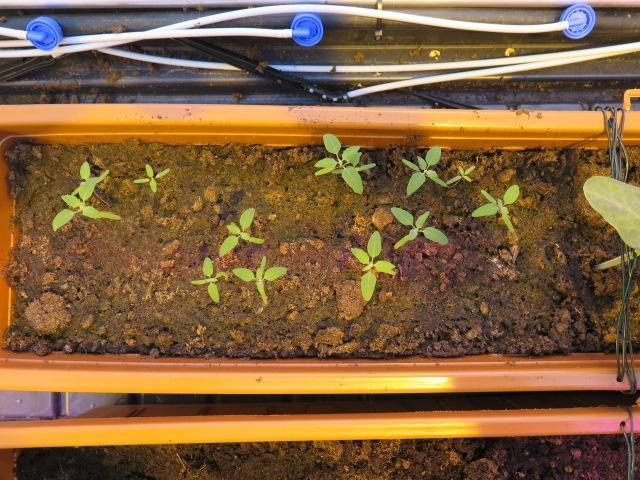weed: (229, 250, 289, 306), (388, 204, 448, 253), (468, 181, 520, 234), (130, 158, 172, 194)
